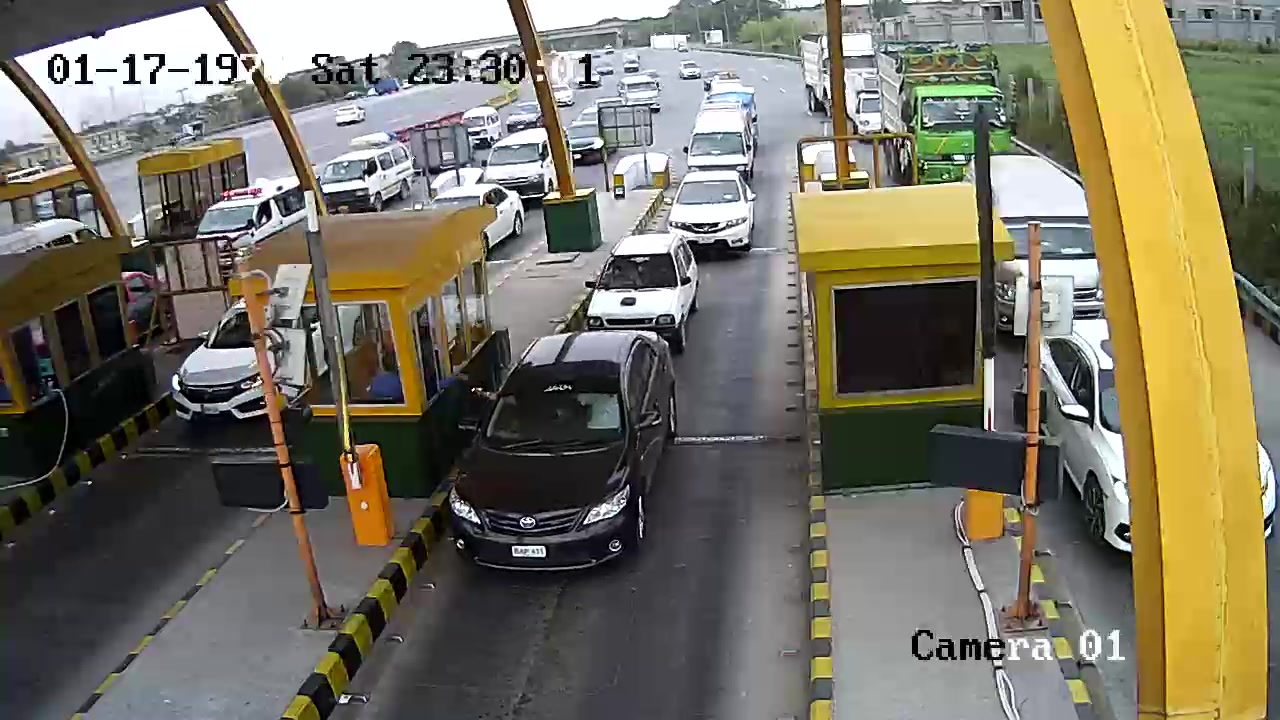F1: (452, 320, 697, 576)
